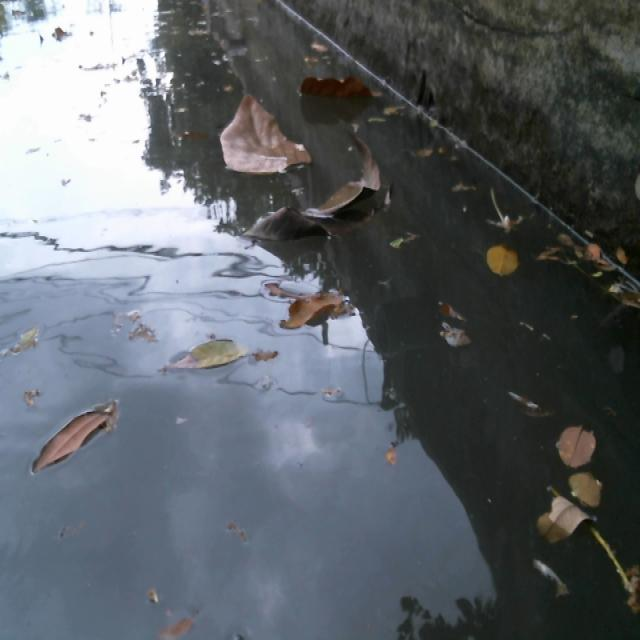Big-leaf: (235, 147, 415, 252), (211, 83, 300, 189), (264, 266, 358, 345), (294, 72, 404, 122)
Small-leaf: (20, 383, 126, 490), (142, 333, 282, 389), (532, 488, 593, 561), (546, 410, 604, 476), (426, 286, 475, 361), (477, 246, 522, 293), (563, 466, 602, 513)
